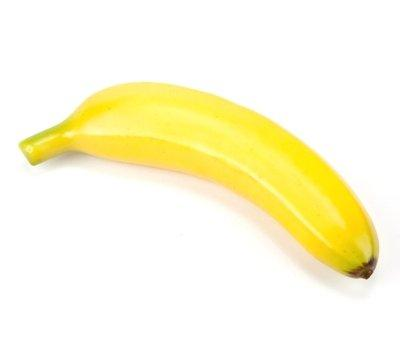banana: (0, 0, 400, 360)
